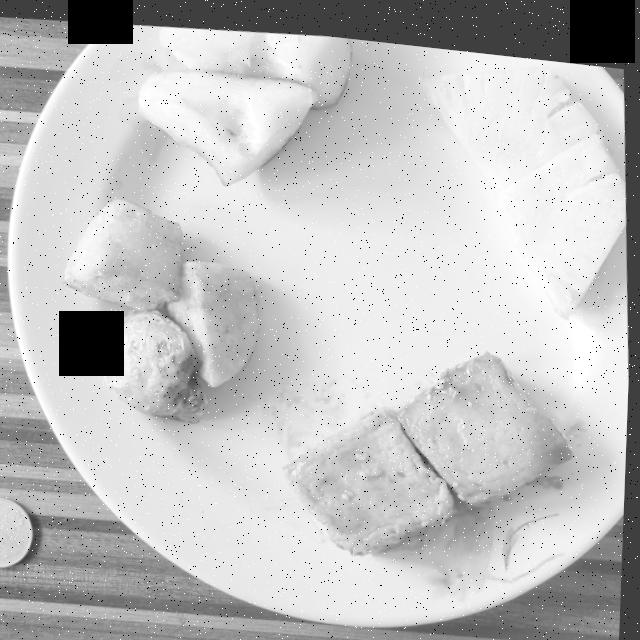coin: (0, 497, 36, 566)
creamy tofu: (287, 340, 576, 546)
fried potato: (66, 196, 260, 417)
pineapple: (418, 52, 627, 304)
